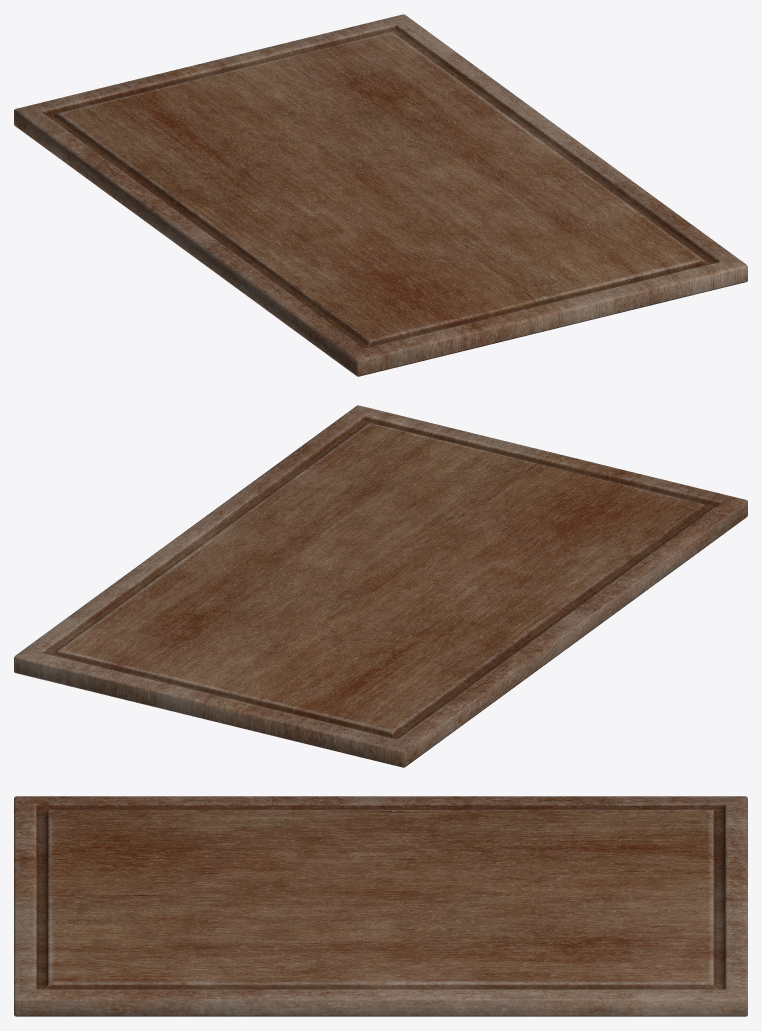
The model's file is GardenKitchenBoard01_1.FBX.
The picture shows the model from 3 angles, top to bottom: view 1: azimuth 30°, elevation 25°; view 2: azimuth 150°, elevation 25°; view 3: azimuth 270°, elevation 25°; orthographic projection. The views are drawn at different scales.
Parts seen in each view (by area): view 1: GardenKitchenBoard01_1; view 2: GardenKitchenBoard01_1; view 3: GardenKitchenBoard01_1.
Boxes of the visible parts, x1=… form: GardenKitchenBoard01_1: x1=14, y1=14, x2=747, y2=376; GardenKitchenBoard01_1: x1=14, y1=405, x2=747, y2=767; GardenKitchenBoard01_1: x1=14, y1=796, x2=747, y2=1016.
Size of what is drawn, in the model's own units: 0.2289 by 0.01 by 0.3489.
